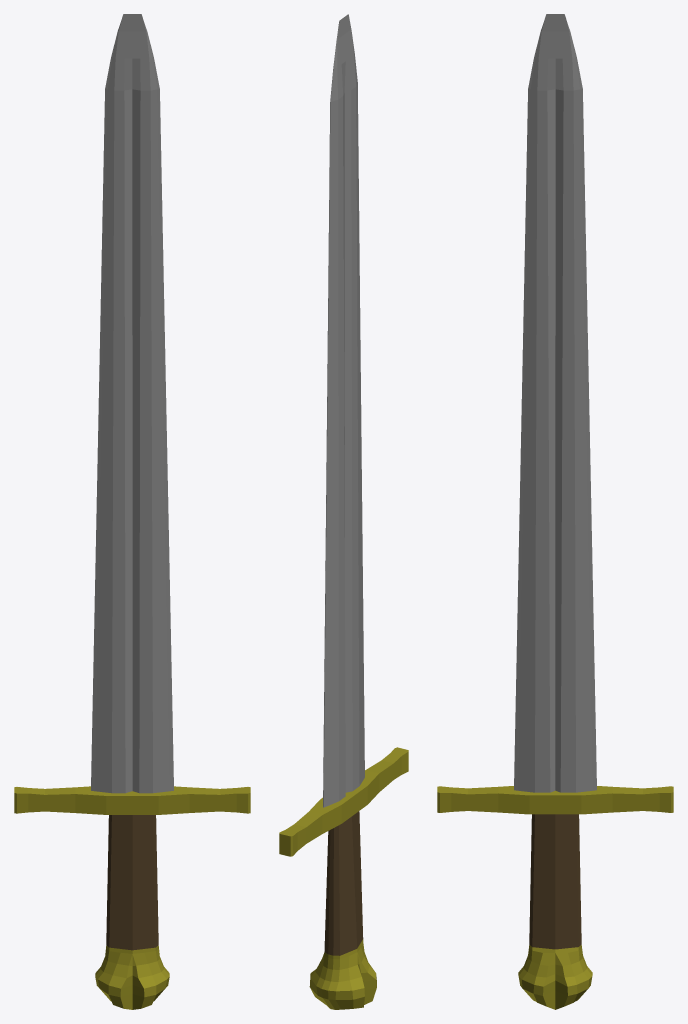
File: SwordOld.fbx
3 renders of one model, left to right at view 1: azimuth 90°, elevation 25°; view 2: azimuth 150°, elevation 25°; view 3: azimuth 270°, elevation 25°, orthographic.
Visible parts, largest first — view 1: Schwert; view 2: Schwert; view 3: Schwert.
Boxes of the visible parts, <box> form: Schwert: <box>14,14,250,1009</box>; Schwert: <box>279,14,408,1009</box>; Schwert: <box>437,14,673,1009</box>.
Bounding box in the file's own units: 1.38 × 23.92 × 5.16.
